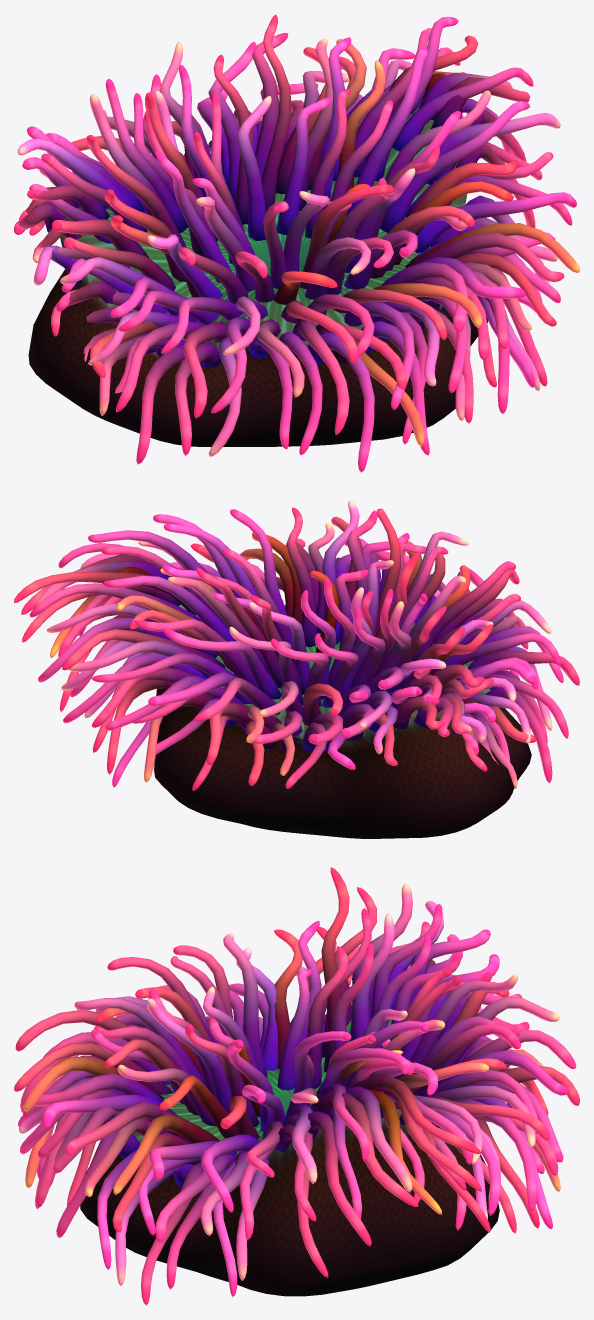
The model's file is coral-anemone-bta.glb.
3 renders of one model, top to bottom at view 1: azimuth 30°, elevation 25°; view 2: azimuth 150°, elevation 25°; view 3: azimuth 270°, elevation 25°, orthographic. The views are drawn at different scales.
Visible parts, largest first — view 1: Anemone_Tentacle_Crown, Anemone_Column_Disc; view 2: Anemone_Tentacle_Crown, Anemone_Column_Disc; view 3: Anemone_Tentacle_Crown, Anemone_Column_Disc.
Part boxes in pixels (bbox=[...]): Anemone_Tentacle_Crown: bbox=[14, 14, 579, 472]; Anemone_Column_Disc: bbox=[28, 103, 488, 446]; Anemone_Tentacle_Crown: bbox=[14, 501, 579, 790]; Anemone_Column_Disc: bbox=[154, 604, 531, 838]; Anemone_Tentacle_Crown: bbox=[14, 867, 579, 1305]; Anemone_Column_Disc: bbox=[80, 1005, 499, 1296].
Bounding box in the file's own units: 0.2869 × 0.1662 × 0.2743.
2 materials, 2 textured.
